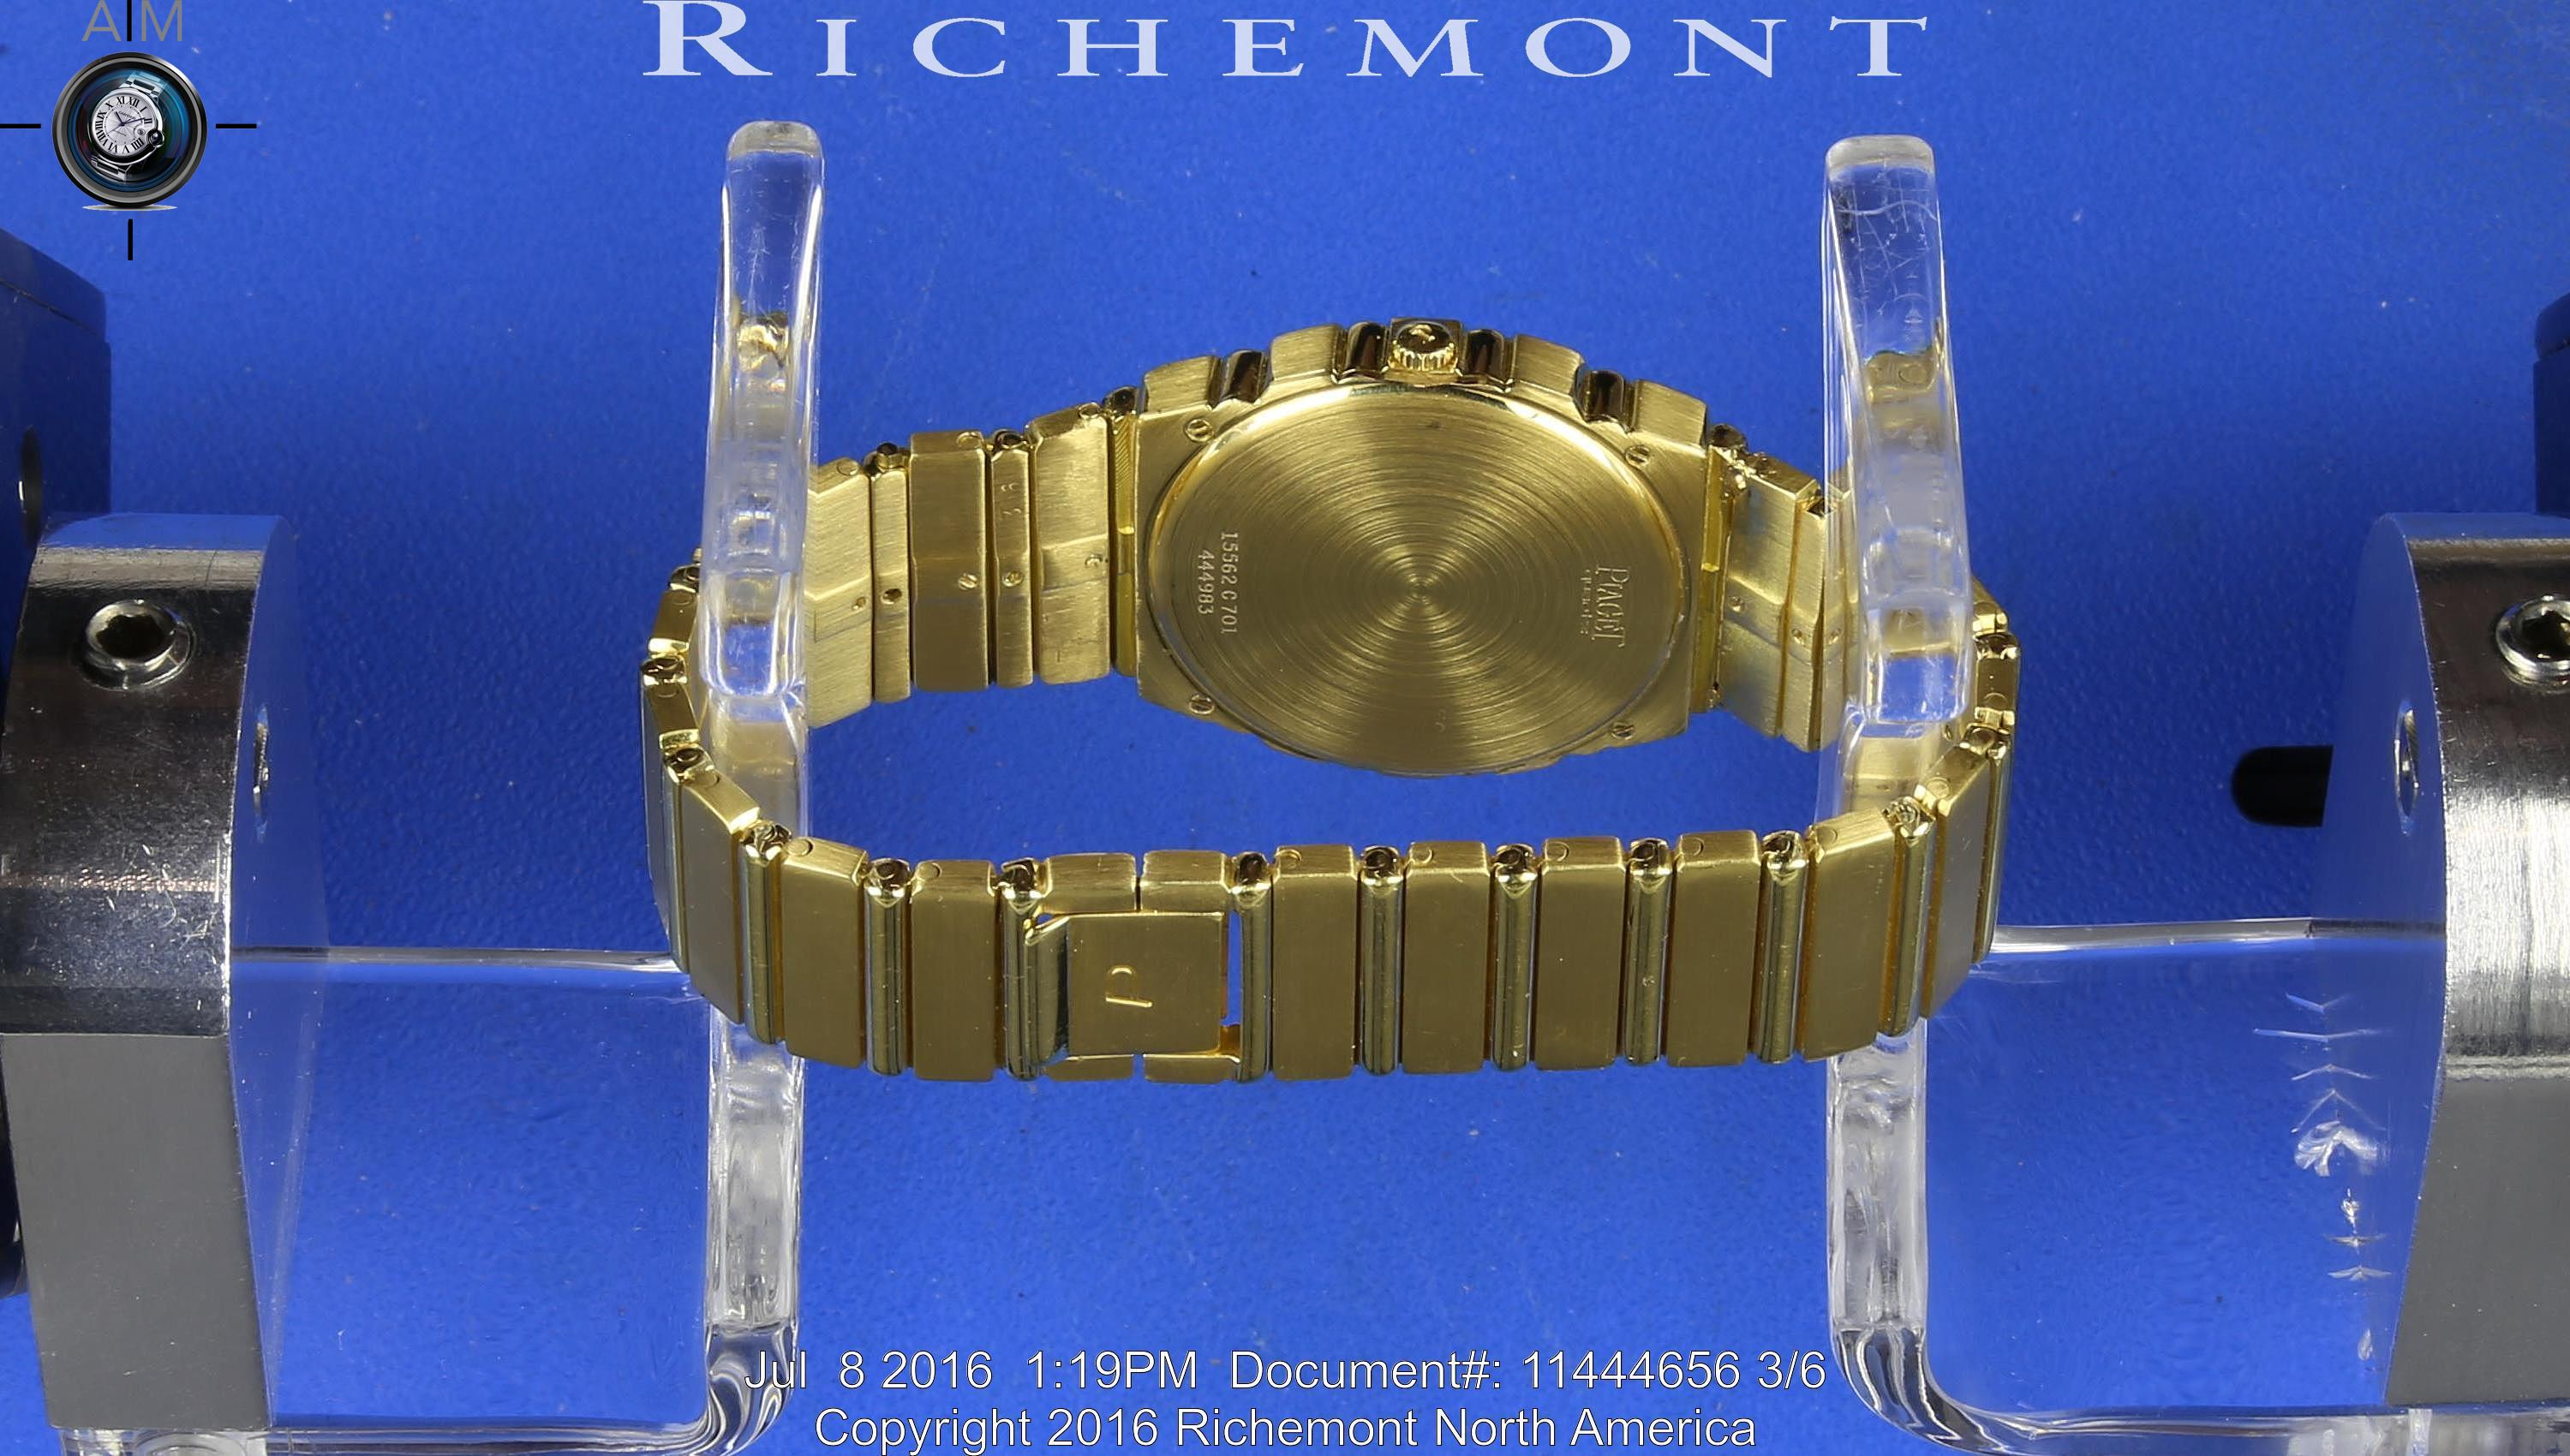Watch BackCase: (1117, 295, 1728, 796)
